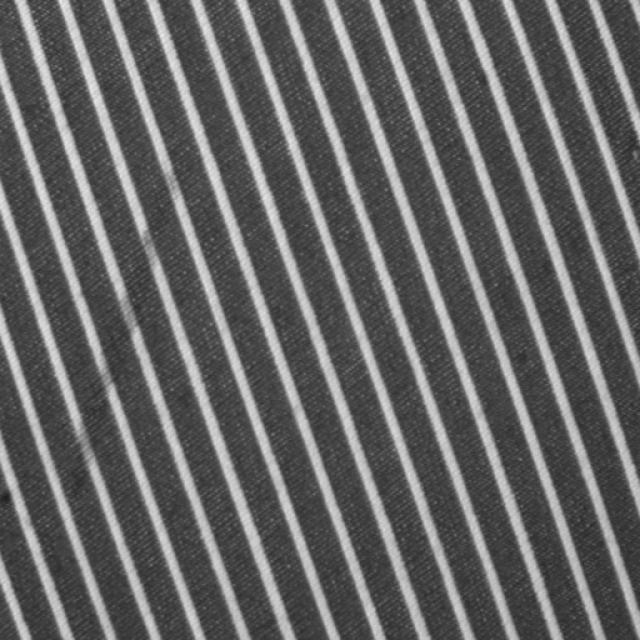Stain-Defect: (52, 144, 218, 514)
